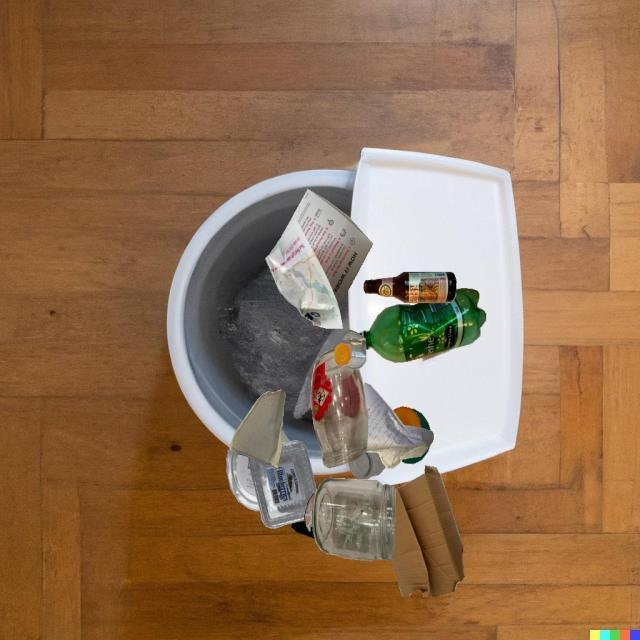cardboard: (391, 465, 464, 597), (230, 390, 286, 468), (291, 520, 315, 539)
glass: (311, 478, 396, 561), (311, 350, 368, 468), (363, 272, 456, 303), (348, 452, 386, 479), (342, 329, 366, 369)
paper: (265, 189, 373, 329), (363, 382, 434, 469), (305, 493, 315, 532), (312, 485, 319, 537)
plastic: (359, 288, 486, 363), (248, 440, 317, 528), (226, 446, 260, 511), (393, 406, 421, 428), (401, 445, 430, 464), (411, 409, 431, 431), (334, 343, 351, 366)
